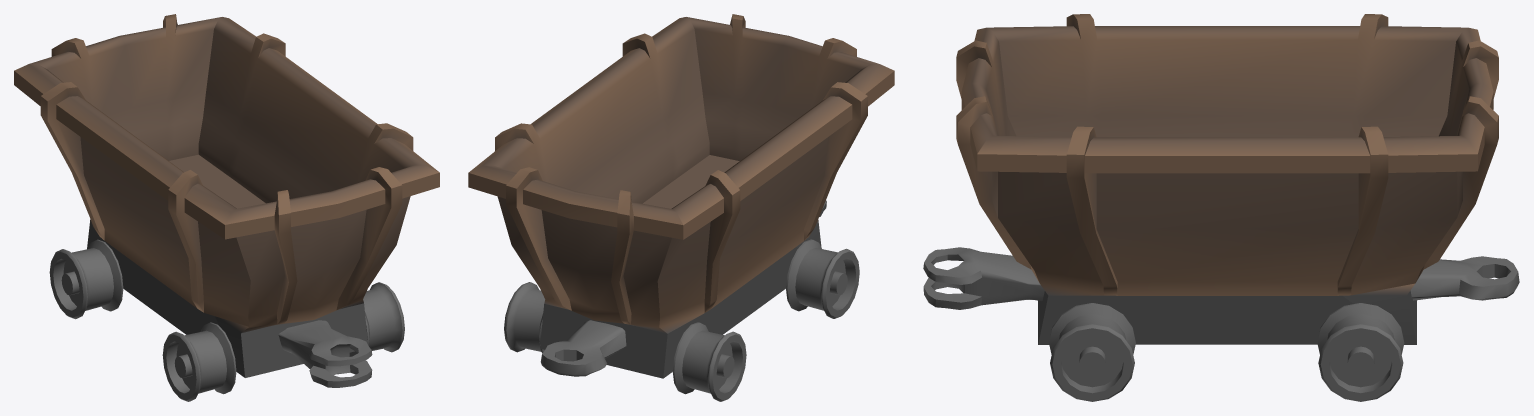
File: mine_cart_emty.glb
The picture shows the model from 3 angles, left to right: view 1: azimuth 30°, elevation 25°; view 2: azimuth 150°, elevation 25°; view 3: azimuth 270°, elevation 25°; orthographic projection. The views are drawn at different scales.
Visible parts, largest first — view 1: Object_3; view 2: Object_3; view 3: Object_3.
Boxes of the visible parts, box(x1,y1,x2,y2) form: Object_3: box(14, 14, 439, 401); Object_3: box(468, 14, 894, 401); Object_3: box(923, 14, 1519, 401).
Bounding box in the file's own units: 0.9509 × 0.8727 × 1.74.
